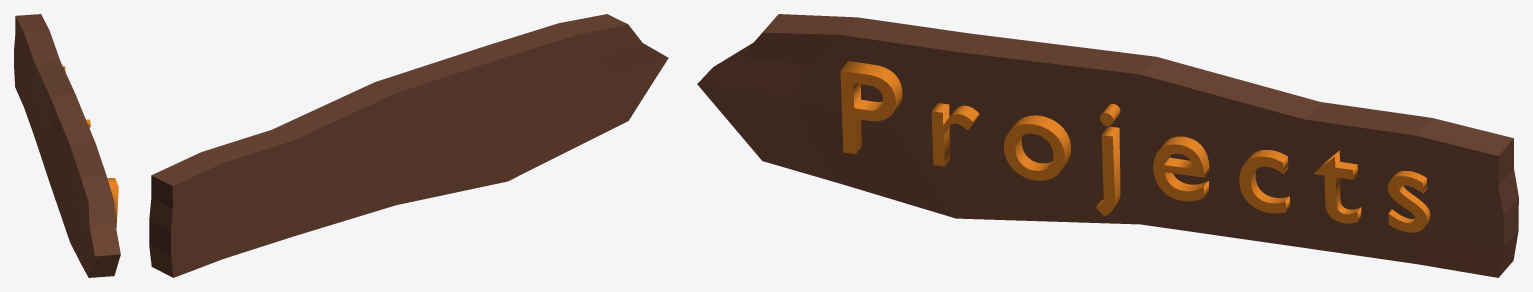
File: project.glb
3 renders of one model, left to right at view 1: azimuth 30°, elevation 25°; view 2: azimuth 150°, elevation 25°; view 3: azimuth 270°, elevation 25°, orthographic. The views are drawn at different scales.
Parts seen in each view (by area): view 1: Plane.059, Text.002; view 2: Plane.059; view 3: Plane.059, Text.002.
Boxes of the visible parts, left/top/right/bottom form: Plane.059: left=14, top=14, right=120, bottom=277; Text.002: left=63, top=66, right=118, bottom=227; Plane.059: left=149, top=14, right=668, bottom=277; Plane.059: left=697, top=14, right=1518, bottom=277; Text.002: left=840, top=61, right=1430, bottom=232.
Bounding box in the file's own units: 0.1542 × 0.0845 × 0.3658.
